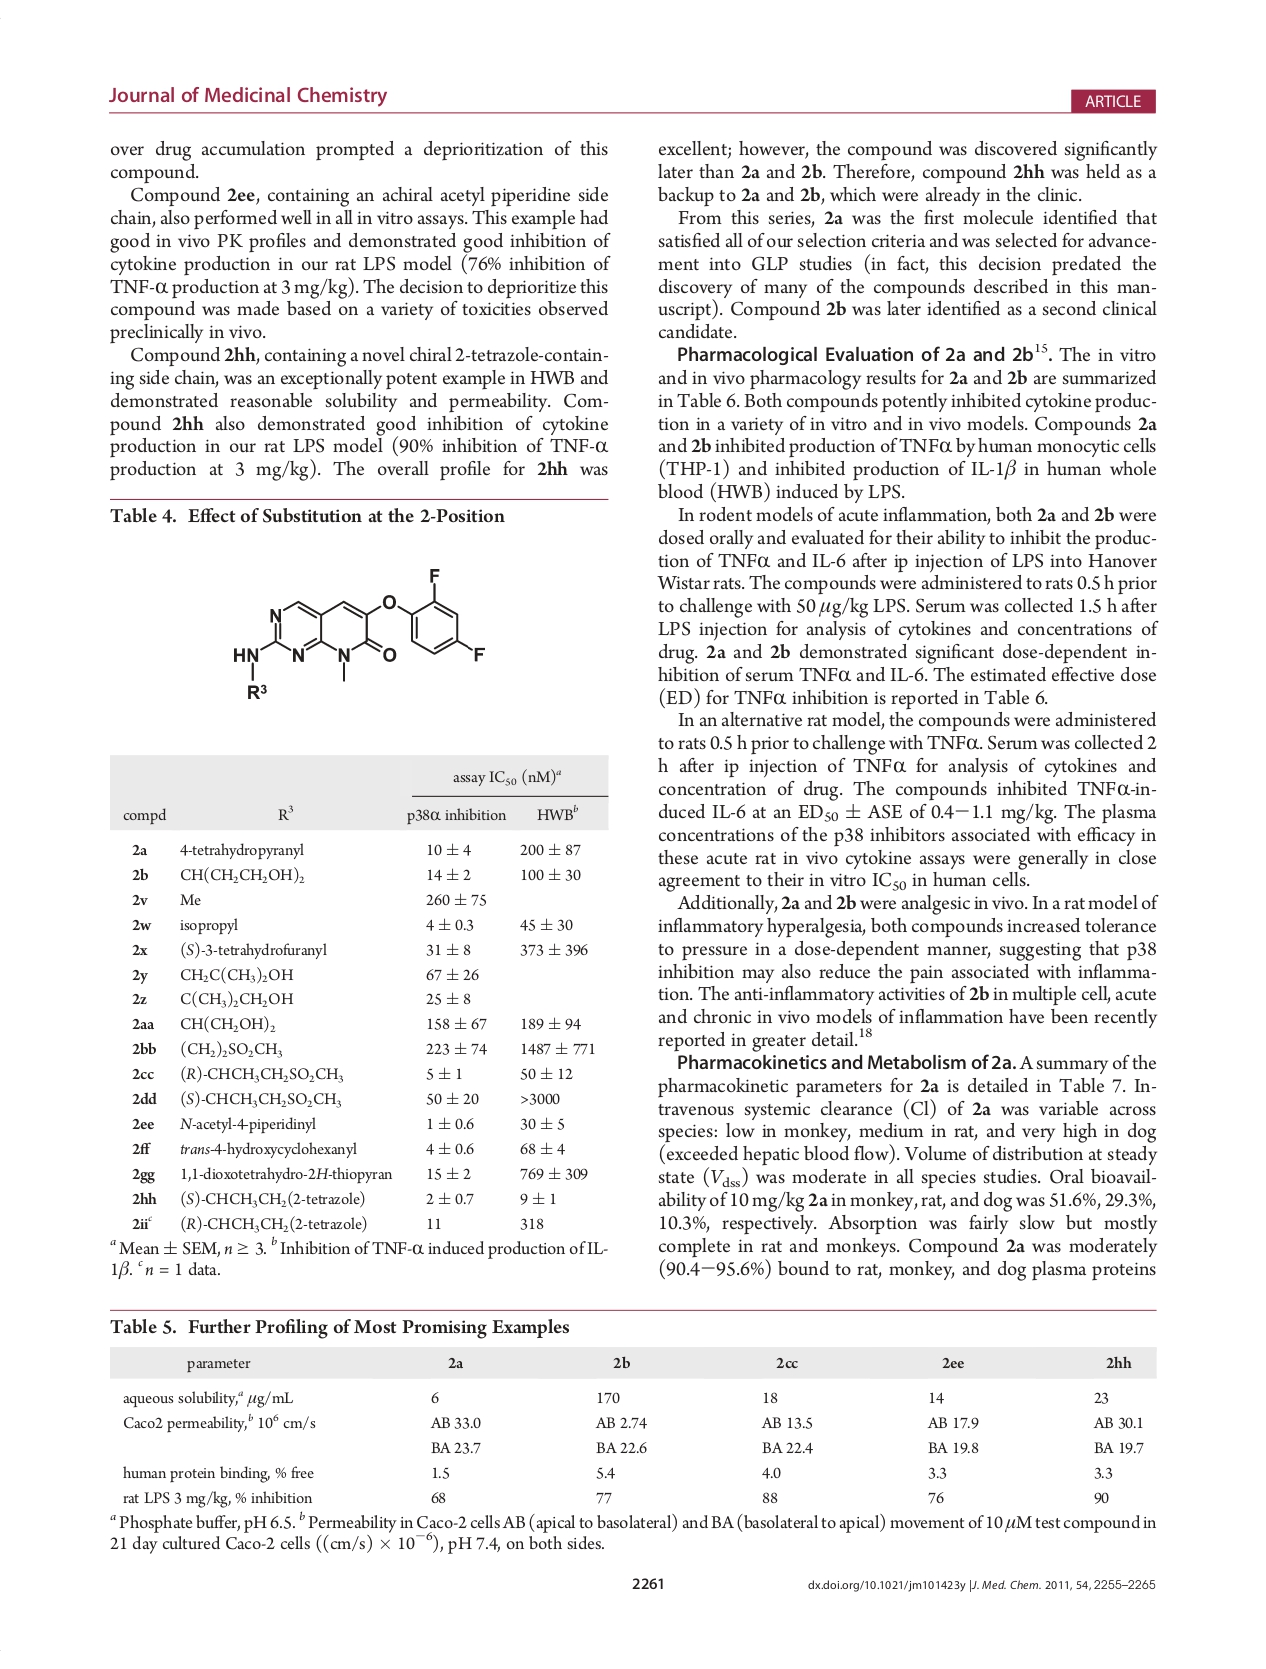exist_molecular: (230, 564, 492, 707)
